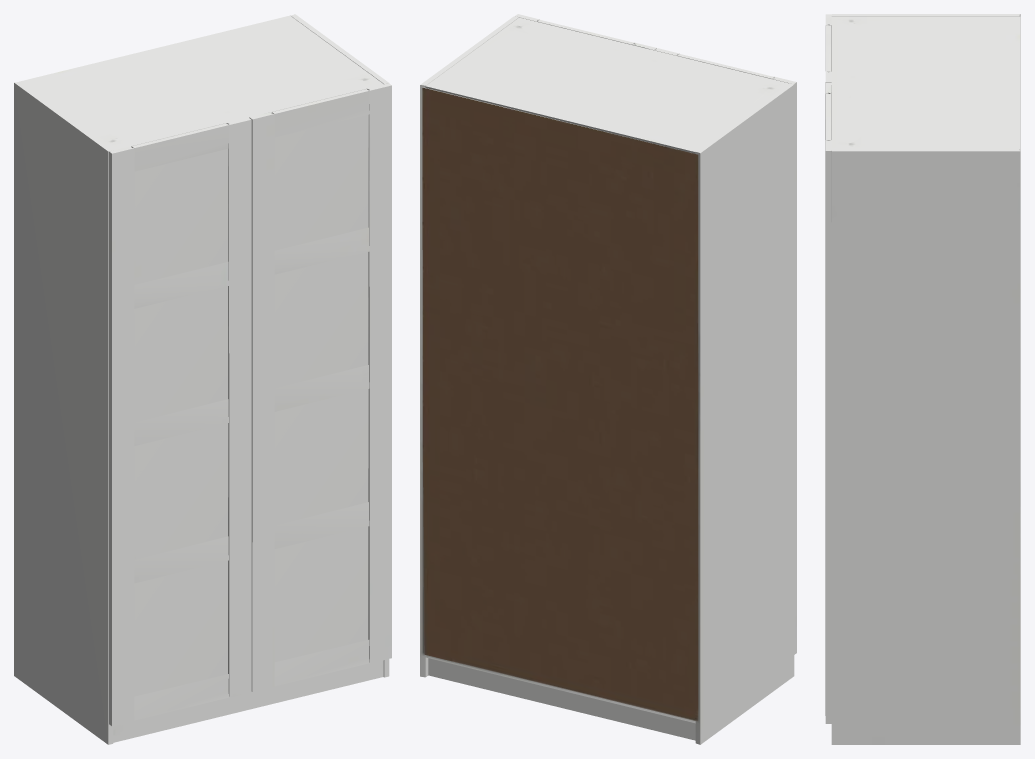
Rendered from pax_bergsbo_szafa_69500632.glb.
3 views of the same model, side by side, from view 1: azimuth 30°, elevation 25°; view 2: azimuth 150°, elevation 25°; view 3: azimuth 270°, elevation 25° (orthographic).
Parts seen in each view (by area): view 1: pax_bergsbo_szafa_69500632; view 2: pax_bergsbo_szafa_69500632; view 3: pax_bergsbo_szafa_69500632.
Part boxes in pixels (x1,y1,x2,y2): pax_bergsbo_szafa_69500632: (14, 14, 391, 744); pax_bergsbo_szafa_69500632: (420, 14, 796, 744); pax_bergsbo_szafa_69500632: (825, 14, 1020, 744).
Size of the model in its own units: 0.9975 by 2.01 by 0.5989.
Materials: 1 (1 with a texture image).
